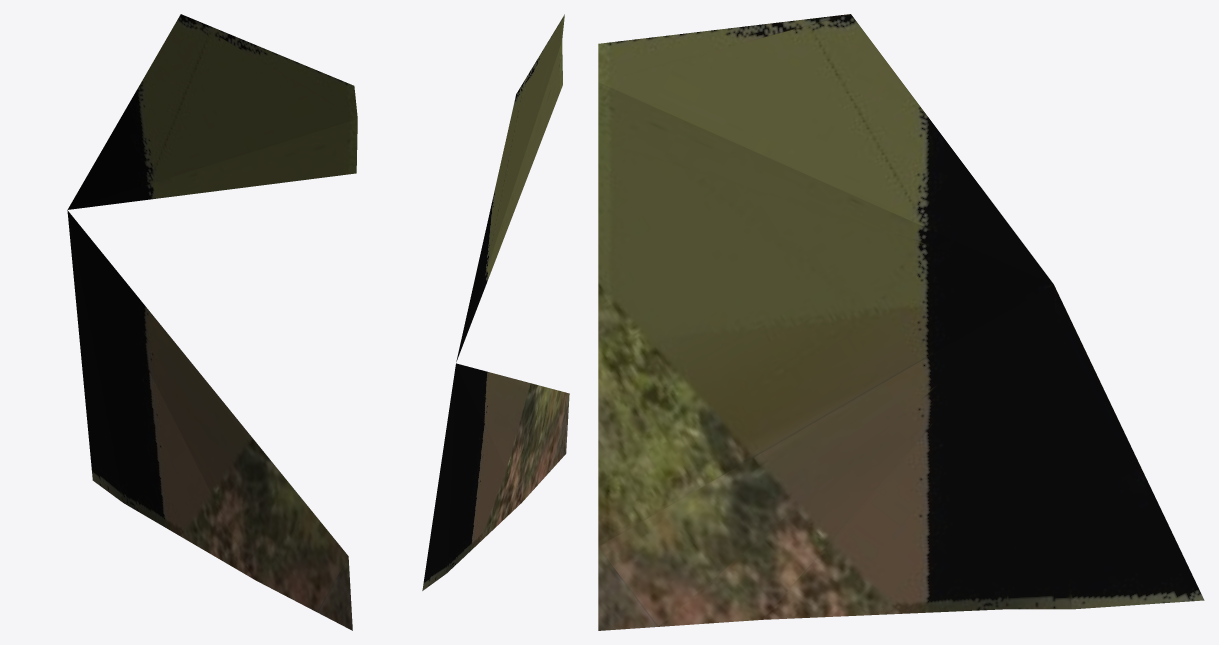
The picture shows the model from 3 angles, left to right: view 1: azimuth 30°, elevation 25°; view 2: azimuth 150°, elevation 25°; view 3: azimuth 270°, elevation 25°; orthographic projection. The views are drawn at different scales.
Size of the model in its own units: 0.8994 by 5.9 by 5.51.
2 materials, 2 textured.
